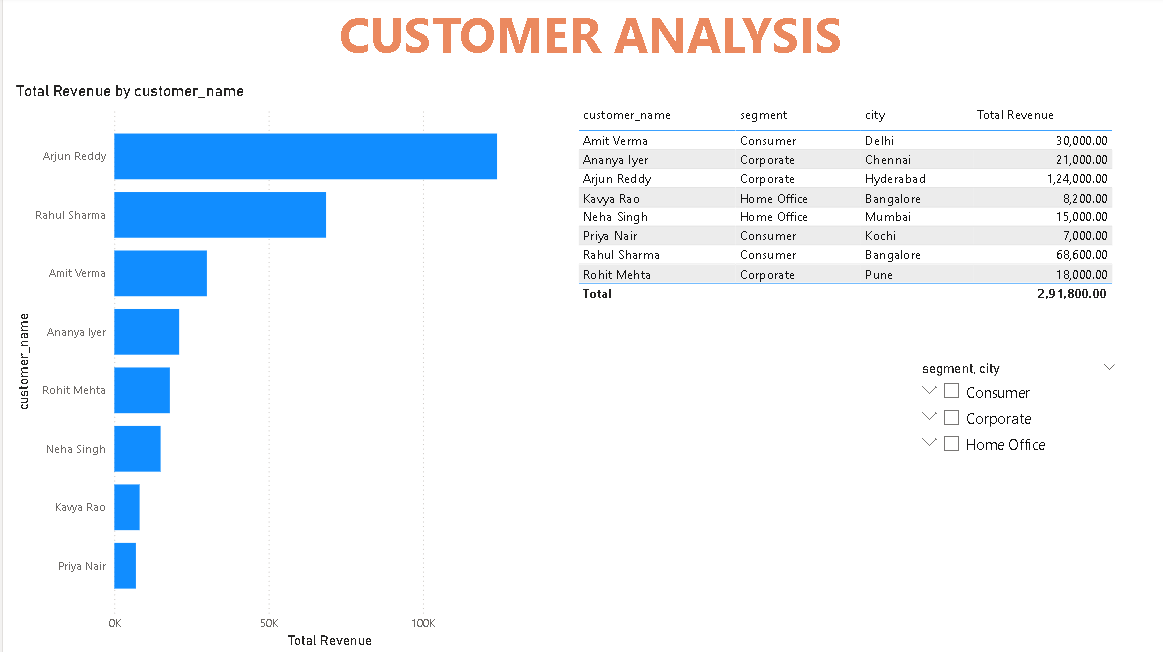

The page's visual inventory and layout, read from the dashboard file:
{"tool":"powerbi","page":{"name":"Page 2","canvas":[1280,720],"ordinal":1},"visuals":[{"type":"textbox","box":[9.6,0,1270.7,93.3],"z":0},{"type":"tableEx","fields":{"Values":["customers.customer_name","customers.segment","customers.city","sales.Total Revenue"]},"box":[625.7,113.9,607.9,245.6],"z":1000},{"type":"barChart","fields":{"Category":["customers.customer_name"],"Y":["sales.Total Revenue"]},"box":[9.6,93.3,605.1,627.1],"z":2000},{"type":"slicer","fields":{"Values":["customers.segment","customers.city"]},"box":[996.2,395.2,237.4,300.5],"z":3000}]}

Visuals, with their boxes in screenshot pixels (x1, y1, x2, y2), scaled from the page's 1280x720 canvas onto the 1163x652 screenshot:
textbox: (left=9, top=0, right=1162, bottom=84)
tableEx - customers.customer_name x customers.segment: (left=569, top=103, right=1121, bottom=326)
barChart - customers.customer_name x sales.Total Revenue: (left=9, top=84, right=559, bottom=651)
slicer - customers.segment x customers.city: (left=905, top=358, right=1121, bottom=630)
